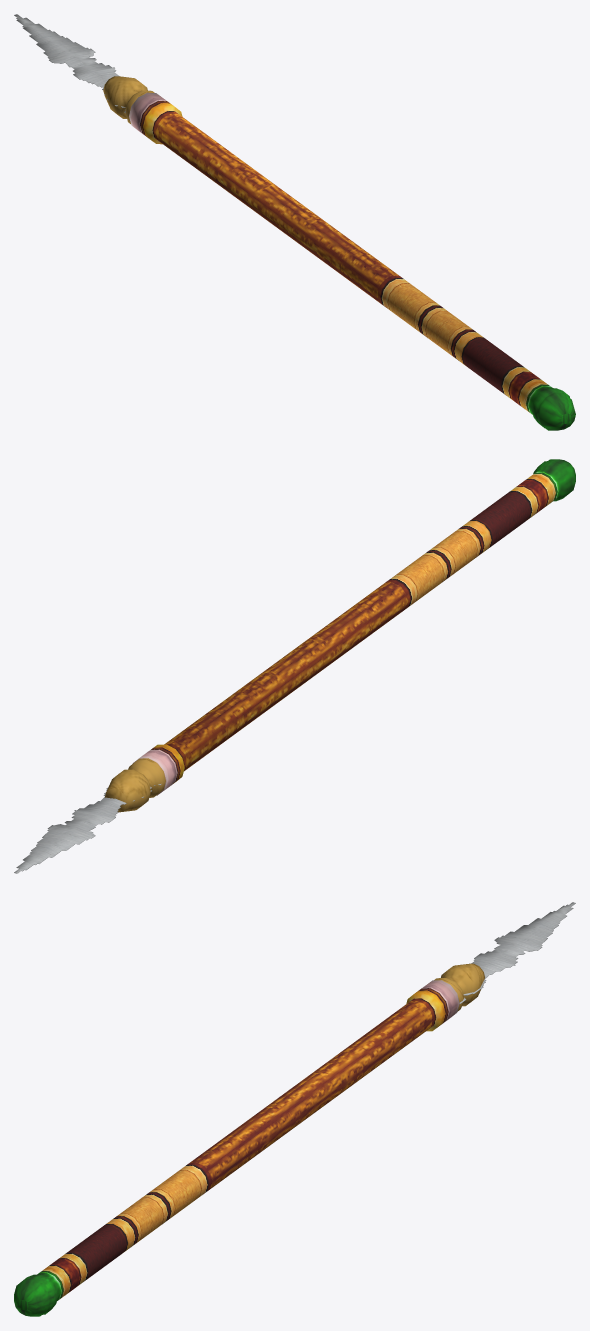
Rendered from item_spear2.glb.
3 views of the same model, one above another, from view 1: azimuth 30°, elevation 25°; view 2: azimuth 150°, elevation 25°; view 3: azimuth 330°, elevation 25° (orthographic).
Parts seen in each view (by area): view 1: pole_spear2; view 2: pole_spear2; view 3: pole_spear2.
Boxes of the visible parts, x1,y1,x2,y2 form: pole_spear2: [14, 14, 575, 430]; pole_spear2: [14, 459, 575, 873]; pole_spear2: [14, 902, 575, 1316].
Bounding box in the file's own units: 0.0903 × 0.0764 × 2.
1 material, 1 textured.
